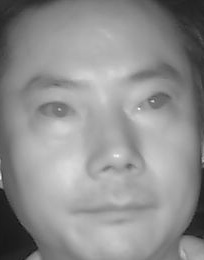eye: (35, 96, 79, 124), (133, 89, 176, 115)
mouth: (72, 190, 159, 232)
